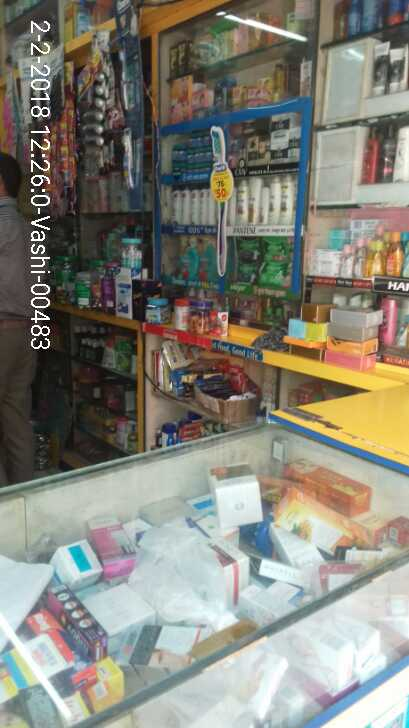beauty: (268, 113, 291, 145), (280, 175, 293, 226), (248, 175, 261, 225), (270, 176, 281, 227), (246, 136, 259, 173), (237, 178, 247, 225), (206, 188, 217, 226), (170, 186, 180, 226), (179, 188, 189, 227), (197, 188, 207, 227), (189, 186, 198, 229), (269, 146, 287, 166), (257, 142, 269, 168), (259, 187, 267, 225)
pharmacy: (174, 235, 198, 282), (197, 236, 218, 283), (260, 263, 293, 286), (234, 238, 263, 262), (262, 240, 293, 262), (235, 261, 258, 282), (183, 148, 213, 164), (189, 133, 212, 149), (168, 144, 185, 160), (171, 161, 181, 177), (201, 168, 212, 182)
